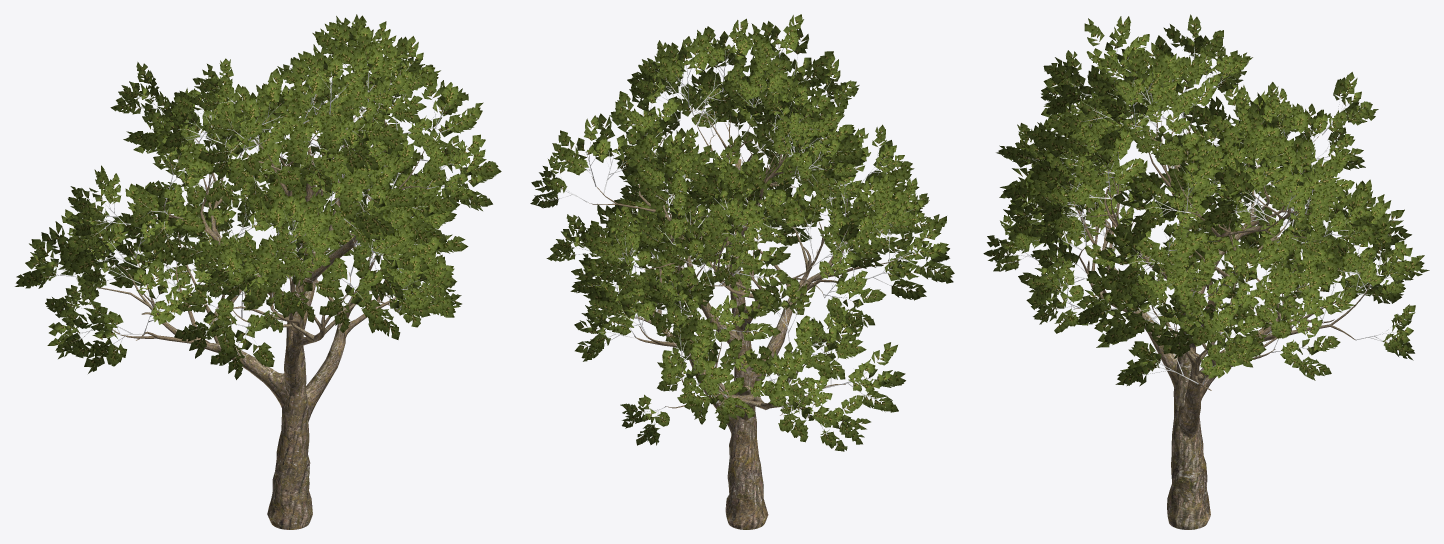
Rendered from maple_tree.glb.
3 renders of one model, left to right at view 1: azimuth 30°, elevation 25°; view 2: azimuth 150°, elevation 25°; view 3: azimuth 270°, elevation 25°, orthographic. The views are drawn at different scales.
Parts seen in each view (by area): view 1: Object_2, Object_3, Object_4; view 2: Object_2, Object_3, Object_4; view 3: Object_2, Object_3, Object_4.
Part boxes in pixels (x1,y1,x2,y2): Object_2: [15, 14, 501, 379]; Object_3: [76, 108, 427, 529]; Object_4: [40, 36, 470, 365]; Object_2: [530, 14, 954, 451]; Object_3: [588, 103, 900, 529]; Object_4: [548, 38, 937, 444]; Object_2: [983, 14, 1429, 386]; Object_3: [1049, 105, 1370, 529]; Object_4: [1005, 43, 1398, 384].
Size of the model in its own units: 112 by 144 by 117.
3 materials, 2 textured.
